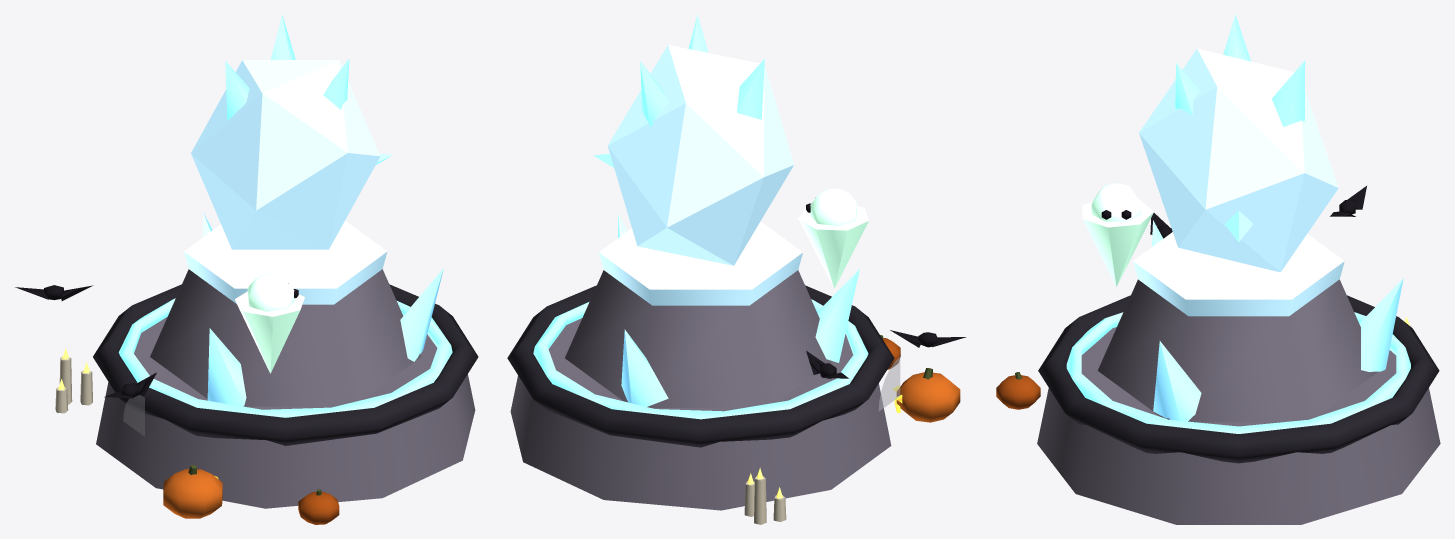
File: tower_freeze_deepFrost.glb
3 renders of one model, left to right at view 1: azimuth 30°, elevation 25°; view 2: azimuth 150°, elevation 25°; view 3: azimuth 270°, elevation 25°, orthographic. The views are drawn at different scales.
Parts seen in each view (by area): view 1: ice_block, base, pedestal, base_rim, pedestal_frost, aura_ring, deco_hw_jack_body, deco_hw_ghost_sheet, side_crystal_1, side_crystal_0, deco_hw_ghost_head, deco_hw_candles (+5 smaller); view 2: ice_block, base, pedestal, base_rim, pedestal_frost, aura_ring, deco_hw_ghost_sheet, deco_hw_jack_body, side_crystal_1, side_crystal_2, deco_hw_ghost_head, deco_hw_candles (+3 smaller); view 3: base, ice_block, pedestal, base_rim, pedestal_frost, aura_ring, deco_hw_ghost_sheet, side_crystal_0, side_crystal_2, deco_hw_ghost_head, block_spike_2, deco_hw_pumpkin_body (+2 smaller).
Boxes of the visible parts, x1,y1,x2,y2 form: ice_block: (191, 60, 380, 249); base: (96, 317, 475, 508); pedestal: (150, 269, 421, 406); base_rim: (93, 284, 478, 445); pedestal_frost: (184, 220, 387, 304); aura_ring: (118, 298, 452, 417); deco_hw_jack_body: (163, 469, 222, 518); deco_hw_ghost_sheet: (235, 291, 304, 373); side_crystal_1: (207, 328, 246, 406); side_crystal_0: (400, 268, 443, 361); deco_hw_ghost_head: (247, 274, 294, 311); deco_hw_candles: (55, 348, 92, 413); ice_block: (608, 45, 793, 265); base: (510, 318, 891, 510); pedestal: (565, 270, 832, 407); base_rim: (507, 285, 894, 447); pedestal_frost: (599, 221, 802, 305); aura_ring: (533, 299, 868, 419); deco_hw_ghost_sheet: (798, 206, 868, 288); deco_hw_jack_body: (896, 372, 960, 422); side_crystal_1: (815, 269, 859, 362); side_crystal_2: (621, 329, 668, 406); deco_hw_ghost_head: (810, 188, 856, 226); deco_hw_candles: (744, 467, 786, 524); base: (1037, 327, 1440, 524); ice_block: (1139, 48, 1338, 272); pedestal: (1097, 279, 1378, 422); base_rim: (1038, 295, 1439, 463); pedestal_frost: (1133, 232, 1344, 316); aura_ring: (1066, 312, 1410, 433); deco_hw_ghost_sheet: (1082, 199, 1153, 286); side_crystal_0: (1153, 341, 1201, 421); side_crystal_2: (1359, 278, 1403, 371); deco_hw_ghost_head: (1091, 183, 1140, 221); block_spike_2: (1272, 60, 1305, 126); deco_hw_pumpkin_body: (996, 375, 1040, 409).
Bounding box in the file's own units: 0.4655 × 0.4358 × 0.4404.
